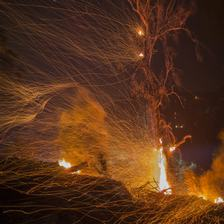fire: (143, 129, 220, 208), (42, 142, 92, 186), (119, 18, 159, 60)
